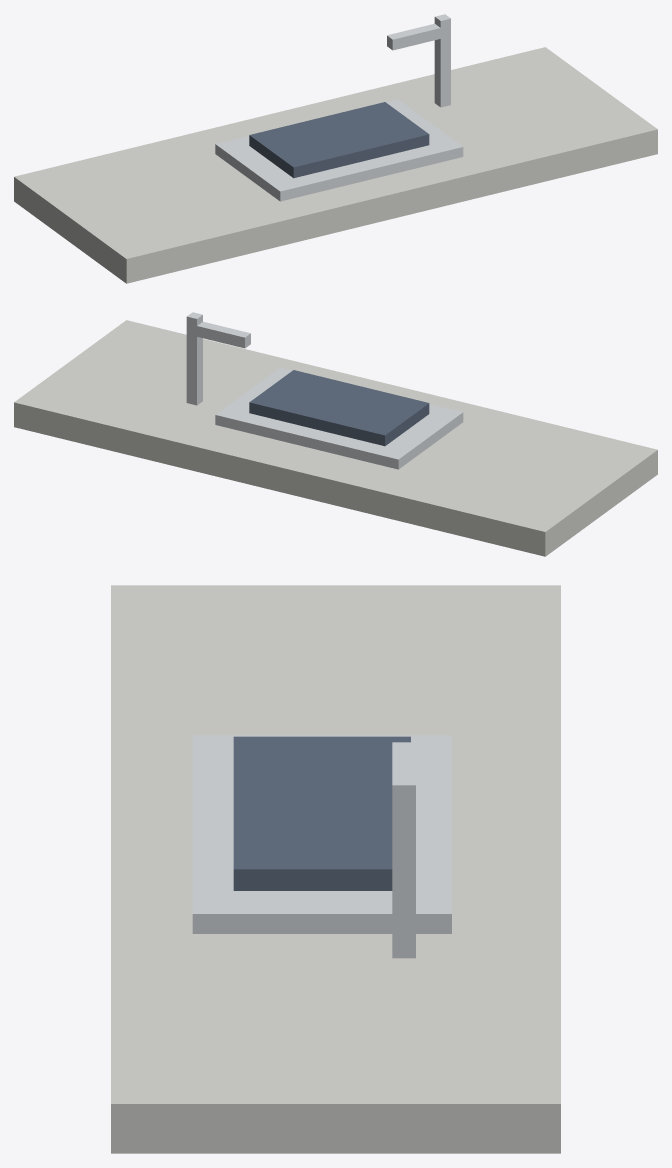
Rendered from countertop-sink-cut-premium.gltf.
3 views of the same model, one above another, from view 1: azimuth 30°, elevation 25°; view 2: azimuth 150°, elevation 25°; view 3: azimuth 270°, elevation 25° (orthographic). The views are drawn at different scales.
Visible parts, largest first — view 1: countertop-sink-cut-premium; view 2: countertop-sink-cut-premium; view 3: countertop-sink-cut-premium.
Part boxes in pixels (x1,y1,x2,y2): countertop-sink-cut-premium: [14, 14, 657, 283]; countertop-sink-cut-premium: [14, 312, 657, 556]; countertop-sink-cut-premium: [111, 585, 560, 1153].
Bounding box in the file's own units: 1.8 × 0.38 × 0.66.
